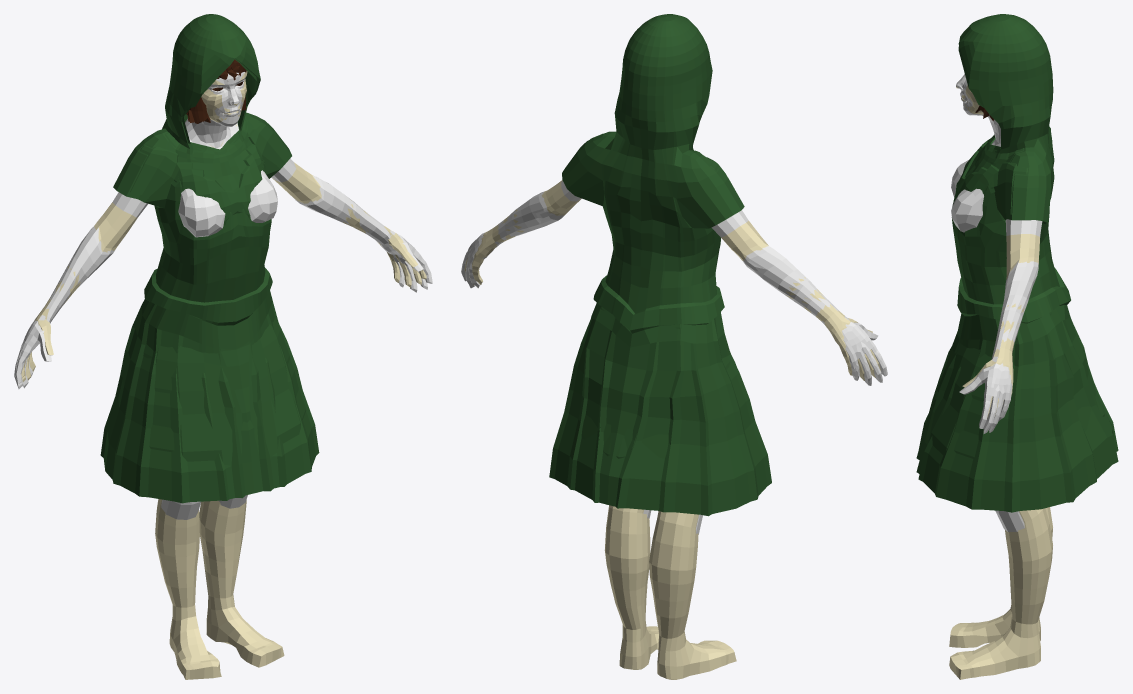
Rendered from DruidHenchmen Alt.fbx.
The picture shows the model from 3 angles, left to right: view 1: azimuth 30°, elevation 25°; view 2: azimuth 150°, elevation 25°; view 3: azimuth 270°, elevation 25°; orthographic projection.
Parts seen in each view (by area): view 1: clothing, clothingARMOUR, BODY, OLD, hair; view 2: clothing, BODY, OLD; view 3: clothing, BODY, OLD, clothingARMOUR.
Boxes of the visible parts, <box> form: clothing: <box>100,14,319,503</box>; clothingARMOUR: <box>130,59,306,465</box>; BODY: <box>21,71,426,679</box>; OLD: <box>14,72,432,519</box>; hair: <box>186,59,246,123</box>; clothing: <box>549,14,771,516</box>; BODY: <box>464,180,880,679</box>; OLD: <box>461,181,887,534</box>; clothing: <box>916,14,1118,512</box>; BODY: <box>949,85,1052,679</box>; OLD: <box>951,74,1042,531</box>; clothingARMOUR: <box>928,94,1104,458</box>.
Bounding box in the file's own units: 536 × 784 × 225.
